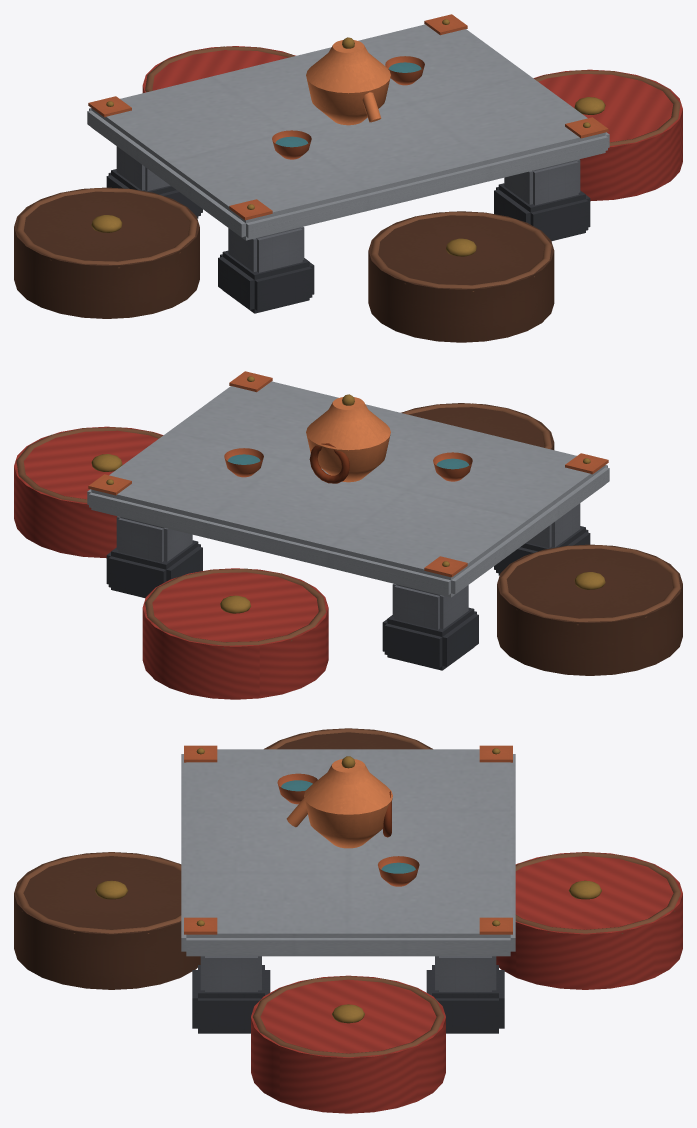
Rendered from low_table_cushions.glb.
The picture shows the model from 3 angles, top to bottom: view 1: azimuth 30°, elevation 25°; view 2: azimuth 150°, elevation 25°; view 3: azimuth 270°, elevation 25°; orthographic projection. The views are drawn at different scales.
Parts seen in each view (by area): view 1: low_table_cushions; view 2: low_table_cushions; view 3: low_table_cushions.
Boxes of the visible parts, left/top/right/bottom form: low_table_cushions: left=14, top=14, right=682, bottom=342; low_table_cushions: left=14, top=371, right=682, bottom=699; low_table_cushions: left=14, top=728, right=682, bottom=1113.
Bounding box in the file's own units: 2.8 × 0.76 × 2.4.
Materials: 1 (1 with a texture image).
